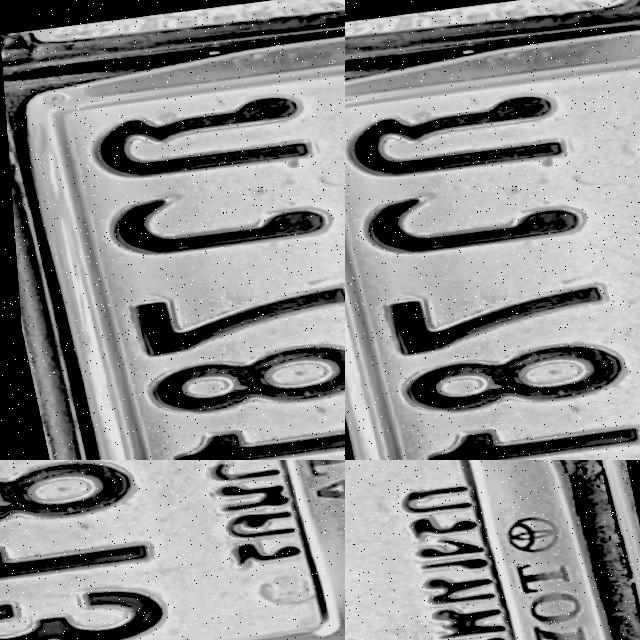license-plate: (345, 460, 640, 640), (0, 13, 185, 210)
